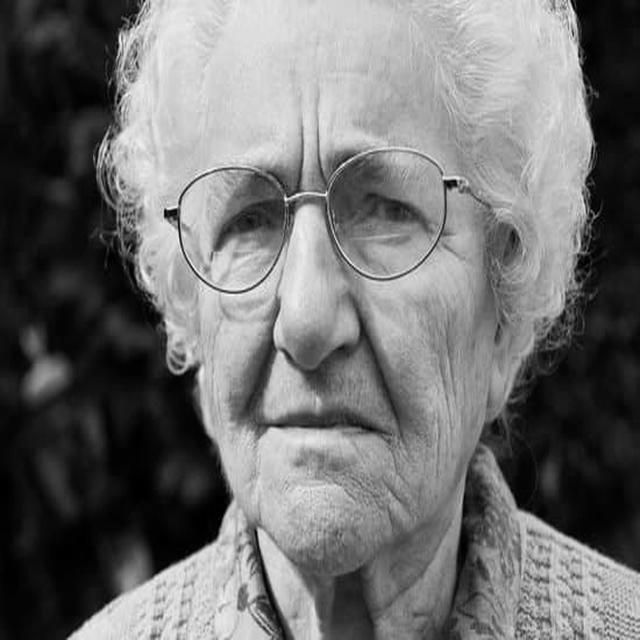Sadness: (189, 7, 479, 570)
